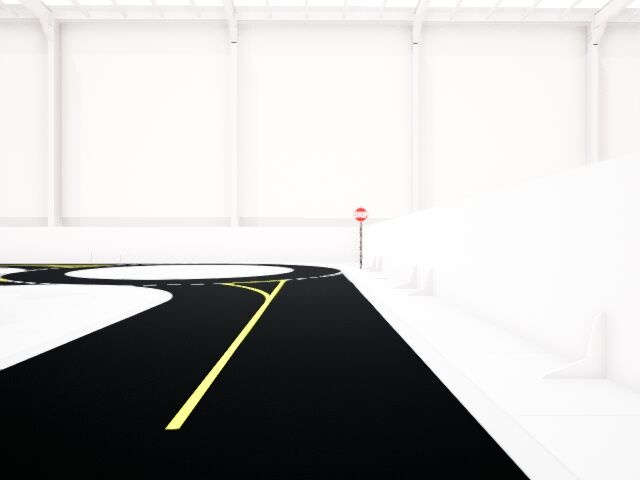stopsign: (354, 208, 368, 222)
